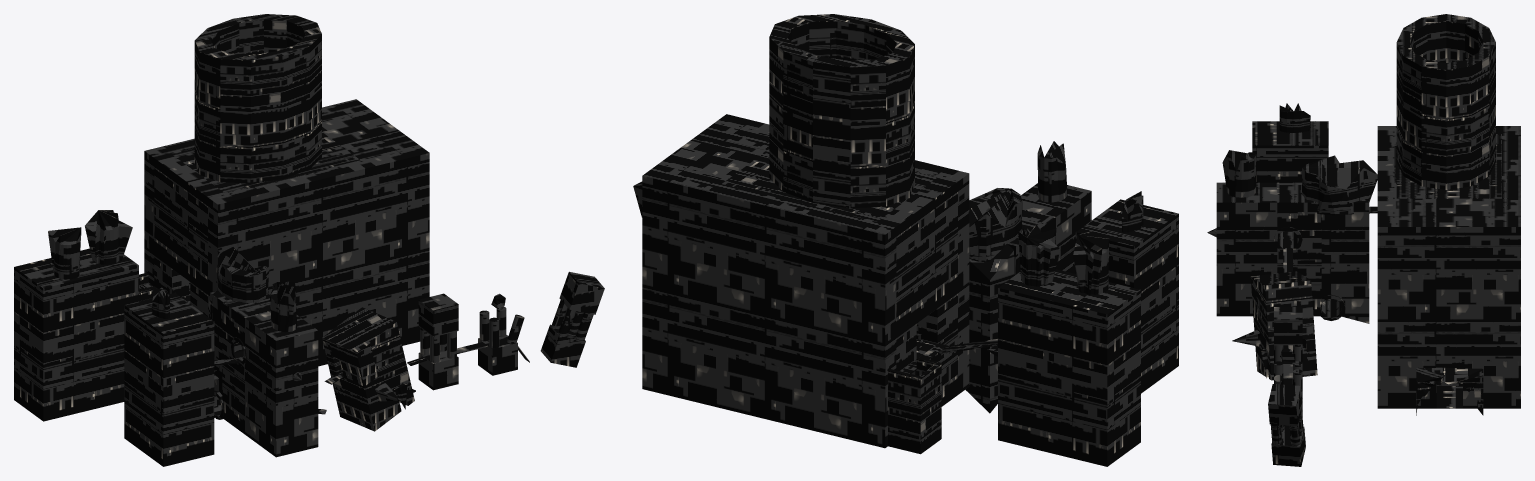
Rendered from 1499object0_opt.obj.
The picture shows the model from 3 angles, left to right: view 1: azimuth 30°, elevation 25°; view 2: azimuth 150°, elevation 25°; view 3: azimuth 270°, elevation 25°; orthographic projection. The views are drawn at different scales.
Size of the model in its own units: 15018 by 9600 by 8414.
